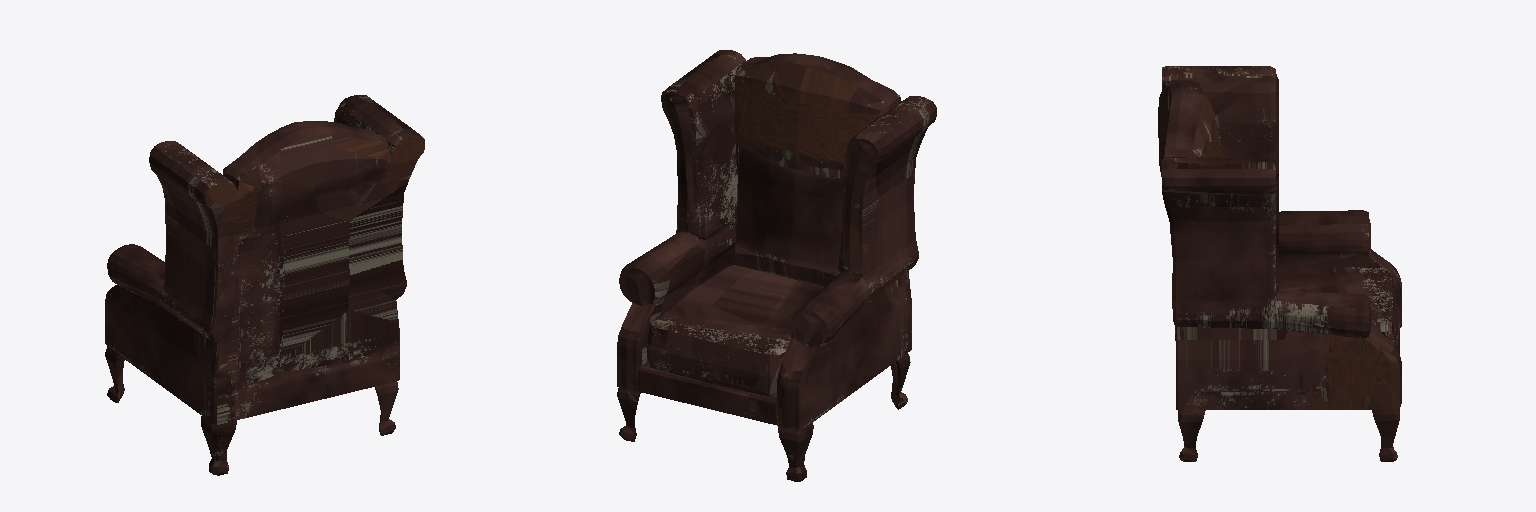
3 views of the same model, side by side, from view 1: azimuth 30°, elevation 25°; view 2: azimuth 150°, elevation 25°; view 3: azimuth 270°, elevation 25° (orthographic).
Visible parts, largest first — view 1: chair_chesterfield; view 2: chair_chesterfield; view 3: chair_chesterfield.
Boxes of the visible parts, x1=… form: chair_chesterfield: x1=105, y1=95, x2=424, y2=475; chair_chesterfield: x1=617, y1=50, x2=936, y2=481; chair_chesterfield: x1=1158, y1=66, x2=1401, y2=461.
Size of the model in its own units: 32.32 by 45 by 30.55.
Materials: 1 (1 with a texture image).